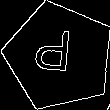P_S: (38, 30, 80, 83)
